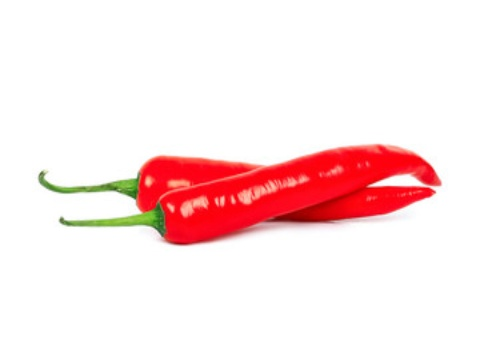Chilli: (32, 138, 452, 249)
